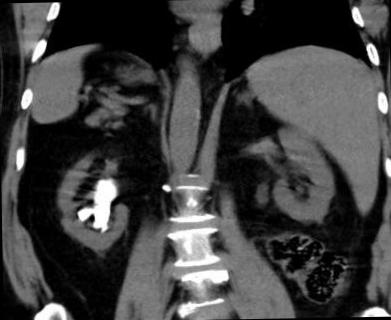Tas_Var: (86, 175, 117, 236), (75, 206, 92, 222), (98, 226, 110, 233)
